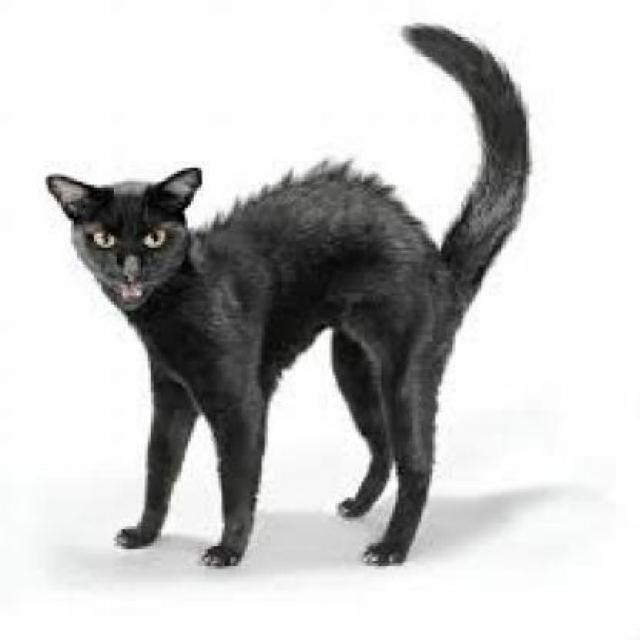animals: (43, 14, 540, 580)
